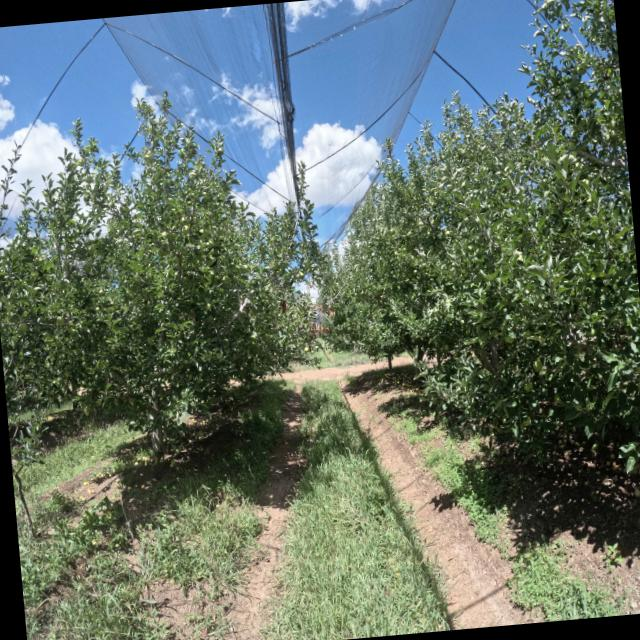-FireBlight-: (310, 319, 332, 338), (312, 304, 324, 317), (278, 299, 289, 313), (326, 308, 336, 318)
